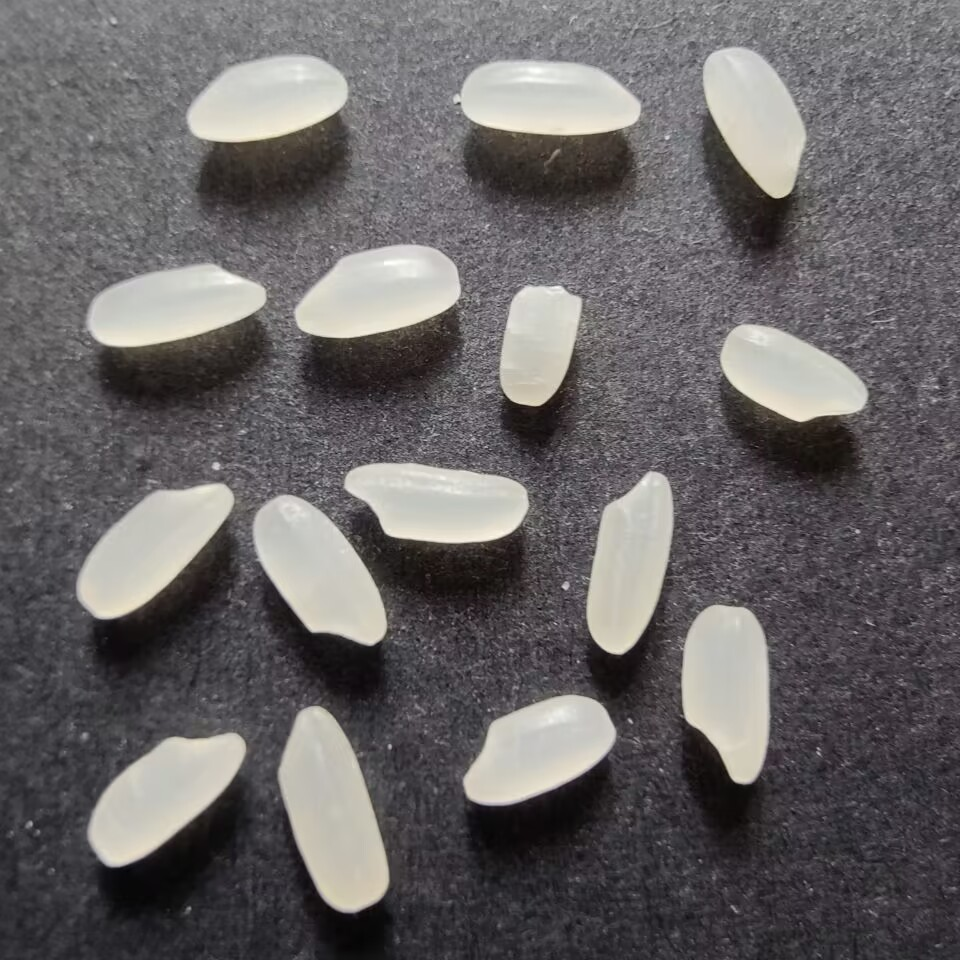broken: (495, 283, 584, 408)
rice: (273, 702, 390, 919), (75, 476, 238, 626), (85, 730, 251, 873), (248, 488, 392, 651), (458, 690, 619, 809), (678, 598, 776, 786), (339, 458, 533, 550), (582, 469, 675, 658), (292, 240, 466, 341), (699, 43, 809, 202), (83, 260, 270, 353), (180, 50, 352, 148), (718, 321, 871, 426), (456, 56, 644, 138)
